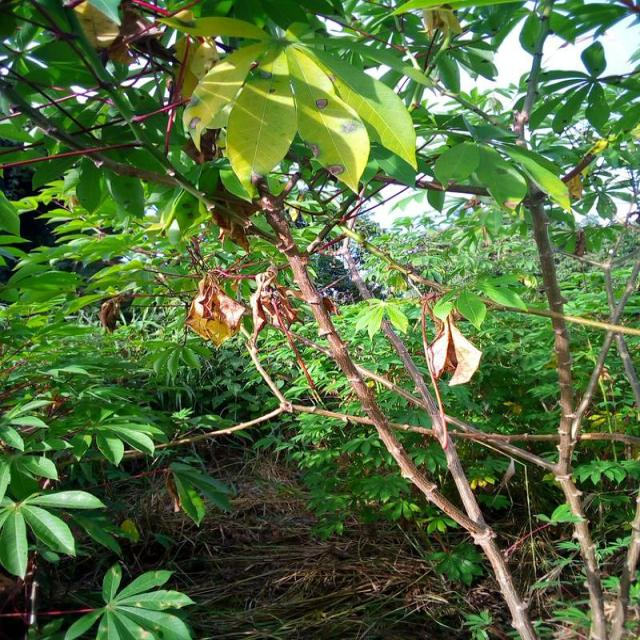cassava leaf: (181, 20, 418, 203)
